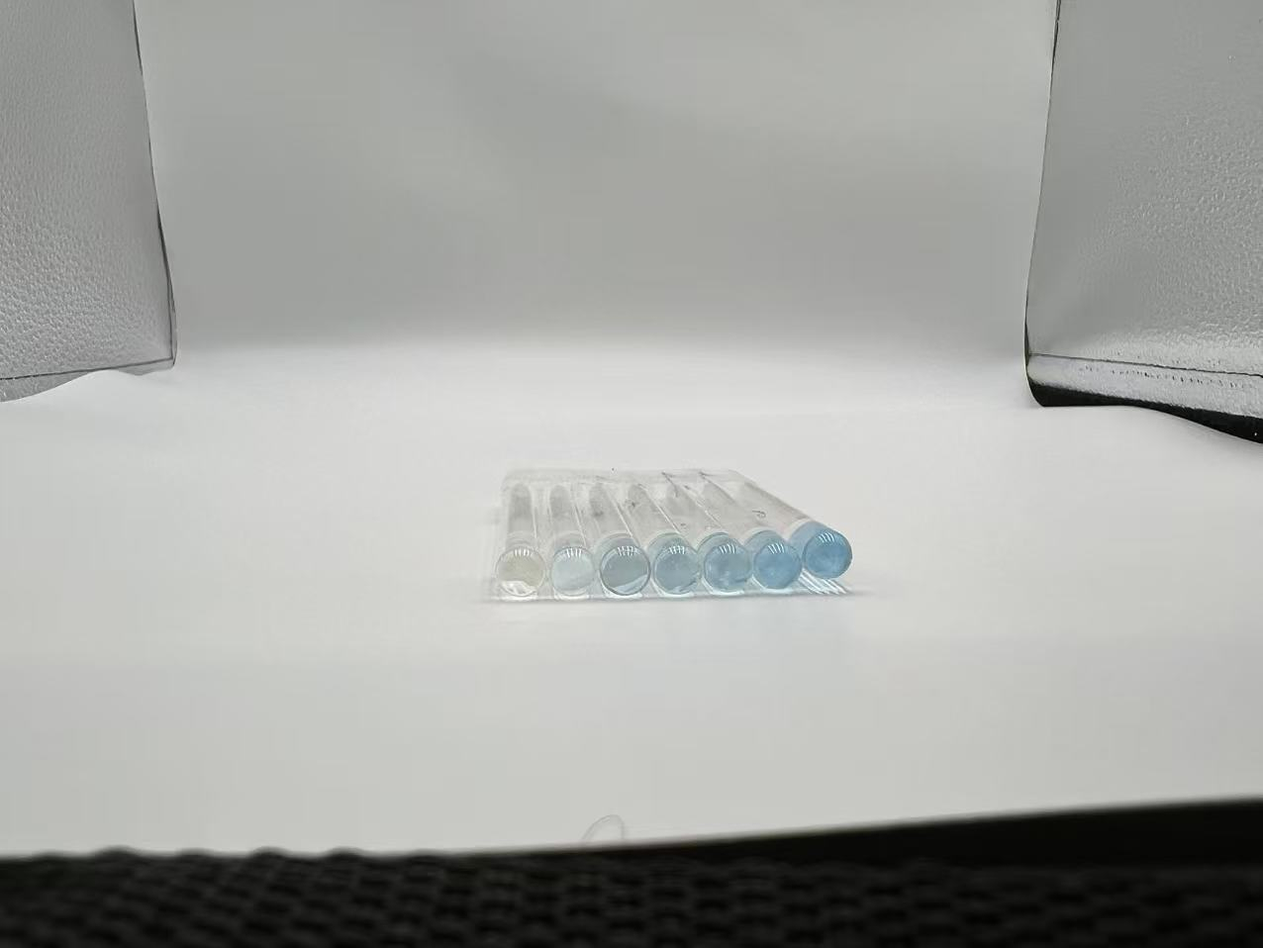drop: (783, 515, 859, 584), (643, 528, 707, 601), (588, 533, 656, 597), (692, 531, 759, 594), (548, 532, 598, 601), (742, 531, 801, 586), (497, 541, 548, 602)
